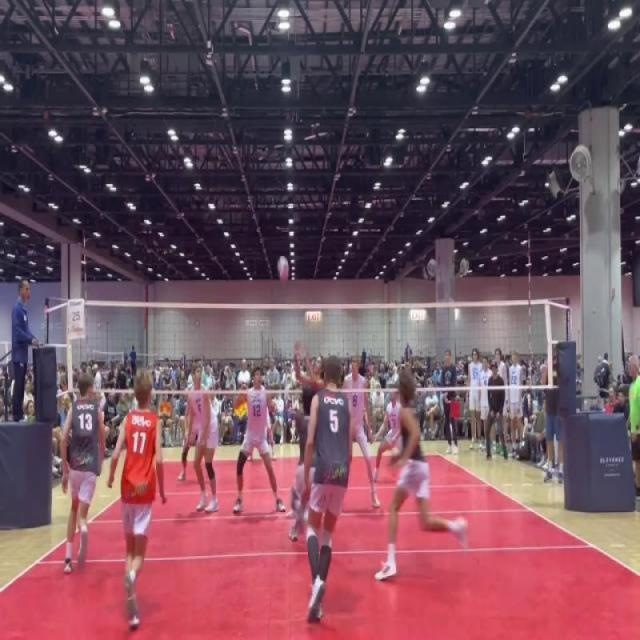volleyball: (276, 253, 290, 284)
